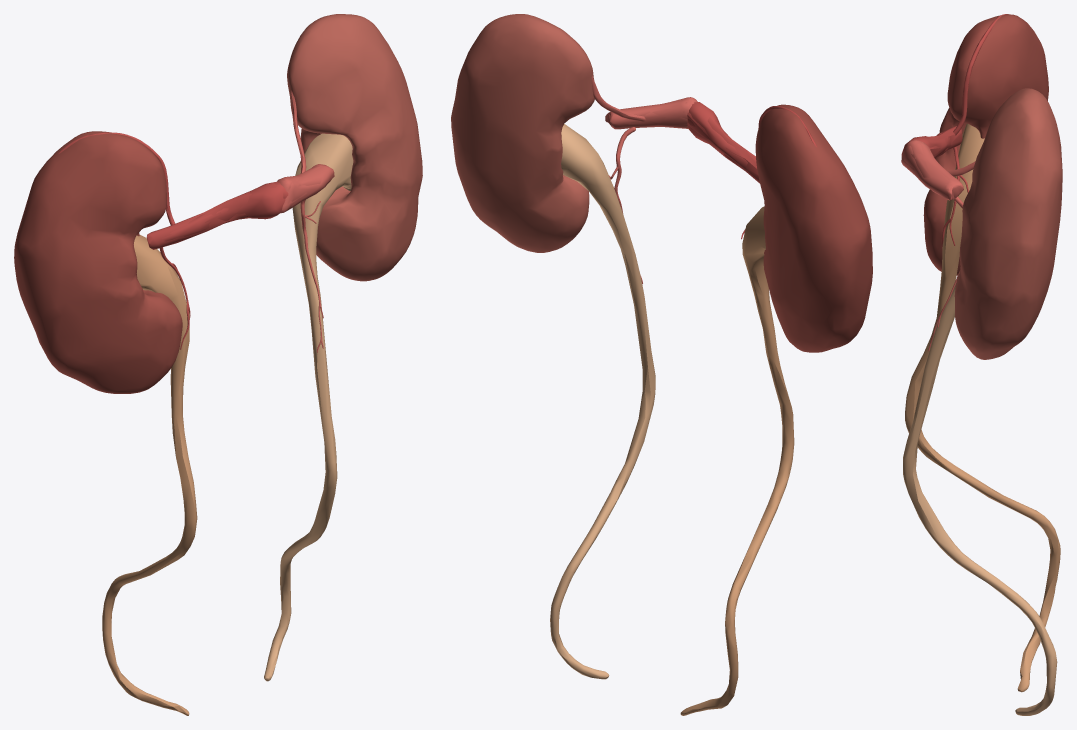
The model's file is kidneys.glb.
The picture shows the model from 3 angles, left to right: view 1: azimuth 30°, elevation 25°; view 2: azimuth 150°, elevation 25°; view 3: azimuth 270°, elevation 25°; orthographic projection.
Visible parts, largest first — view 1: right-kidney, left-kidney, left-ureter, right-ureter, right-renal-artery, left-renal-artery; view 2: left-kidney, right-kidney, left-ureter, right-ureter, left-renal-artery, right-renal-artery; view 3: left-kidney, right-kidney, right-ureter, left-ureter, left-renal-artery, right-renal-artery.
Boxes of the visible parts, x1,y1,x2,y2 form: right-kidney: [14, 131, 182, 393]; left-kidney: [287, 14, 422, 281]; left-ureter: [264, 133, 353, 681]; right-ureter: [102, 234, 197, 715]; right-renal-artery: [58, 132, 288, 349]; left-renal-artery: [277, 90, 334, 352]; left-kidney: [451, 14, 594, 252]; right-kidney: [755, 104, 872, 352]; left-ureter: [550, 124, 655, 679]; right-ureter: [680, 206, 794, 715]; left-renal-artery: [591, 75, 697, 283]; right-renal-artery: [687, 102, 817, 239]; left-kidney: [954, 88, 1062, 359]; right-kidney: [923, 14, 1048, 275]; right-ureter: [905, 123, 1060, 692]; left-ureter: [903, 283, 1057, 715]; left-renal-artery: [901, 140, 975, 351]; right-renal-artery: [901, 14, 1010, 250].
Size of the model in its own units: 4.45 by 6.98 by 1.52.
